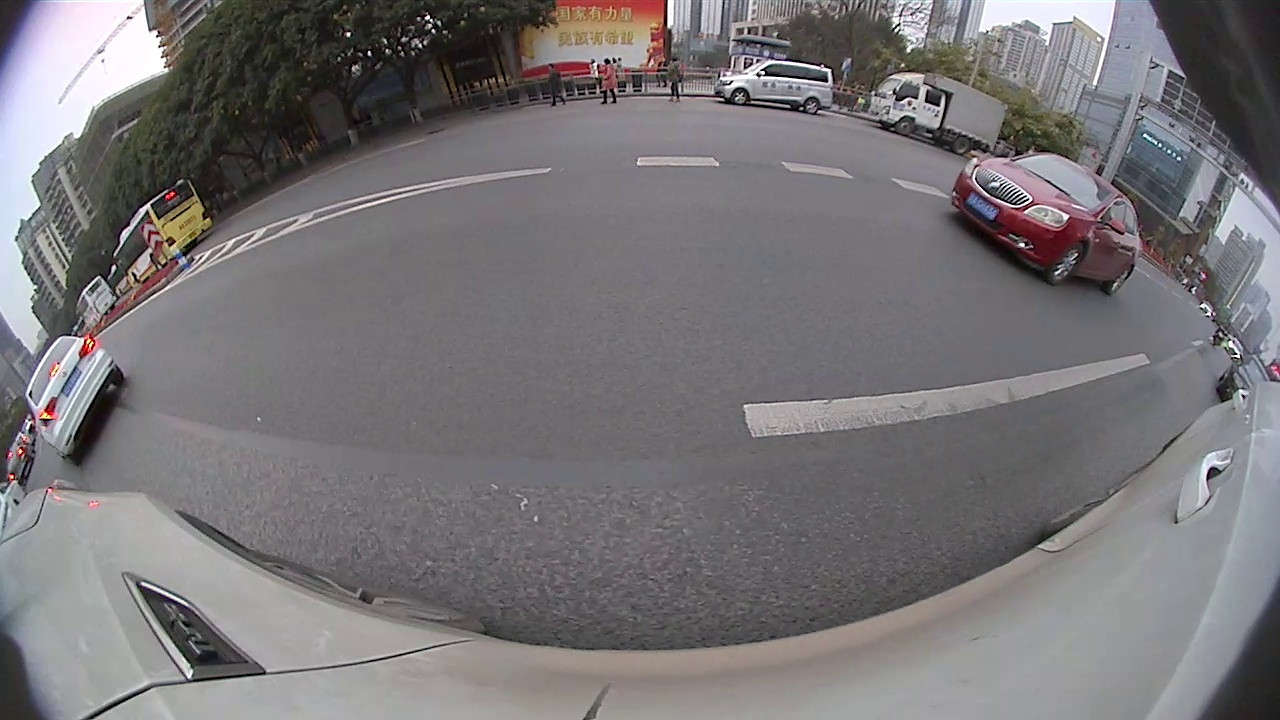bus: (108, 177, 212, 284), (75, 273, 117, 323)
car: (950, 148, 1142, 298), (25, 333, 127, 466), (717, 58, 835, 116), (1215, 351, 1267, 405)
front: (1049, 243, 1083, 284), (896, 116, 914, 137), (732, 88, 749, 106)
person: (548, 63, 560, 108), (604, 57, 613, 109), (671, 55, 680, 104)
rear: (1109, 267, 1131, 294), (954, 134, 970, 156), (804, 97, 820, 115)
truck: (867, 68, 1010, 156)
